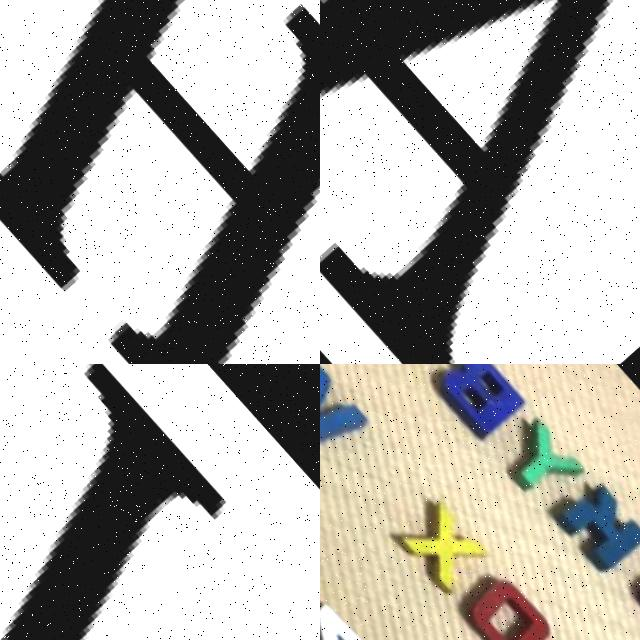A: (320, 0, 640, 364)
B: (424, 364, 525, 445)
H: (0, 0, 320, 364)
K: (540, 470, 640, 581)
L: (0, 364, 320, 640)
O: (449, 566, 554, 640)
V: (320, 364, 368, 464)
X: (387, 495, 491, 601)
Y: (484, 412, 582, 511)
Z: (320, 600, 379, 640)
